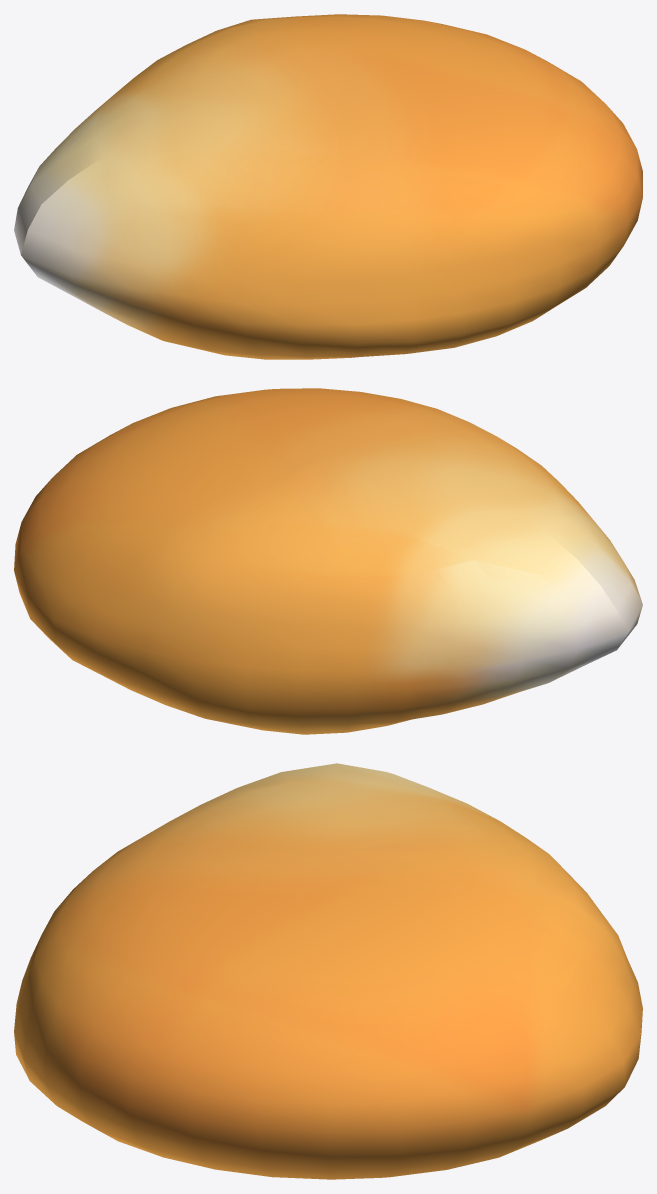
The model's file is cornPainted.glb.
3 views of the same model, one above another, from view 1: azimuth 30°, elevation 25°; view 2: azimuth 150°, elevation 25°; view 3: azimuth 270°, elevation 25° (orthographic). The views are drawn at different scales.
Visible parts, largest first — view 1: Corn; view 2: Corn; view 3: Corn.
Boxes of the visible parts, x1=… form: Corn: x1=14, y1=14, x2=642, y2=359; Corn: x1=14, y1=388, x2=642, y2=734; Corn: x1=14, y1=763, x2=642, y2=1179.
Bounding box in the file's own units: 0.2968 × 0.1063 × 0.247.
Materials: 1 (1 with a texture image).
